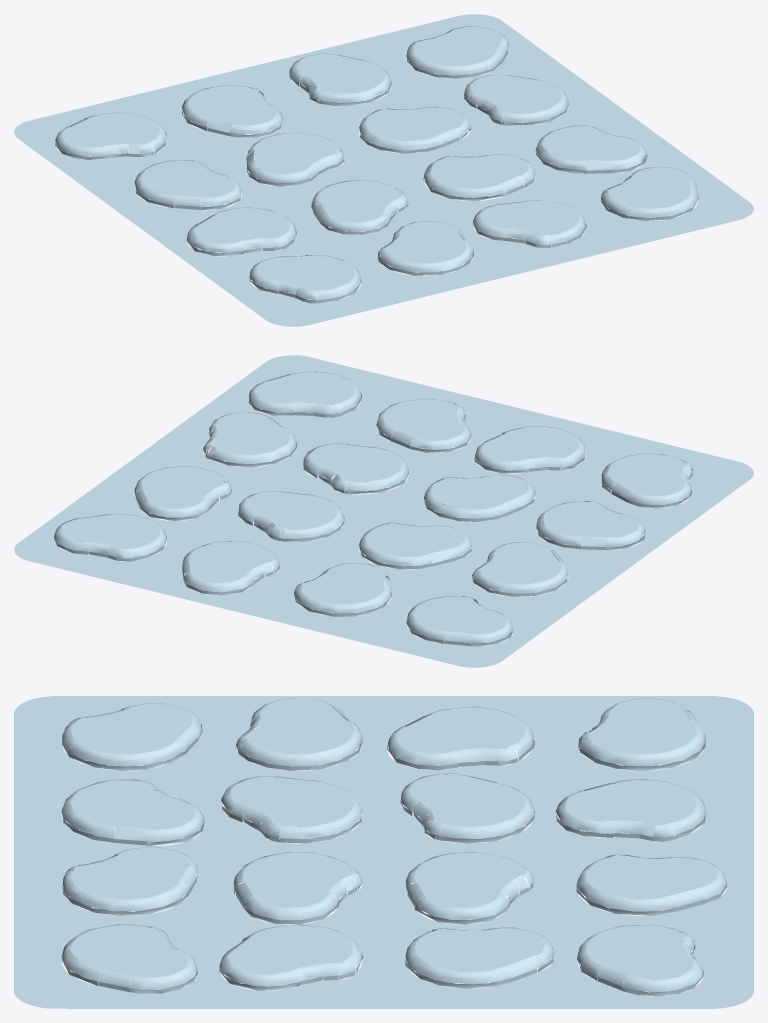
The model's file is board_collider.glb.
3 renders of one model, top to bottom at view 1: azimuth 30°, elevation 25°; view 2: azimuth 150°, elevation 25°; view 3: azimuth 270°, elevation 25°, orthographic. The views are drawn at different scales.
Parts seen in each view (by area): view 1: collider; view 2: collider; view 3: collider.
Boxes of the visible parts, <box> form: collider: <box>14,14,753,326</box>; collider: <box>14,355,753,667</box>; collider: <box>14,696,753,1008</box>.
Bounding box in the file's own units: 1.58 × 0.0325 × 1.58.
